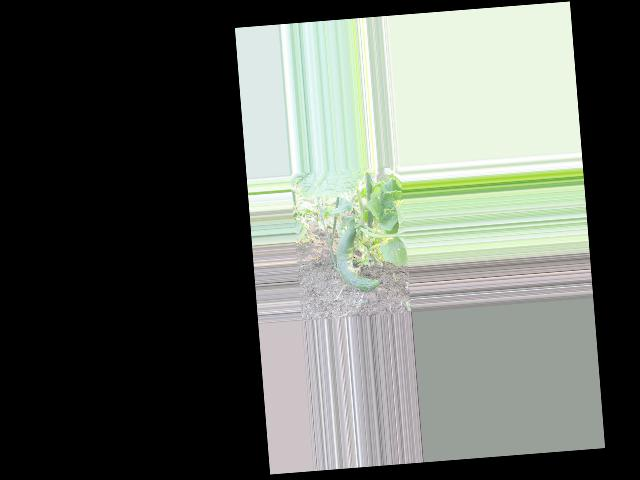cucumber: (333, 224, 380, 293)
